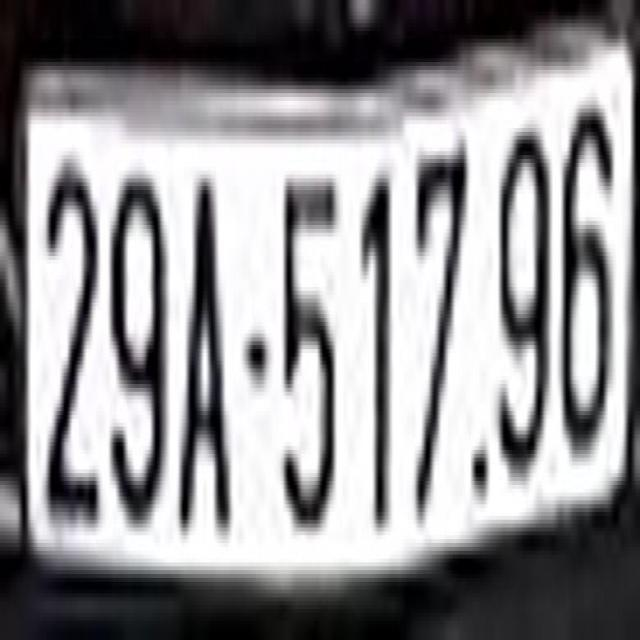1: (356, 166, 396, 558)
2: (40, 132, 99, 543)
5: (278, 155, 340, 570)
6: (563, 90, 615, 470)
7: (412, 135, 462, 528)
9: (105, 136, 165, 539), (496, 116, 550, 492)
A: (175, 155, 231, 559)
